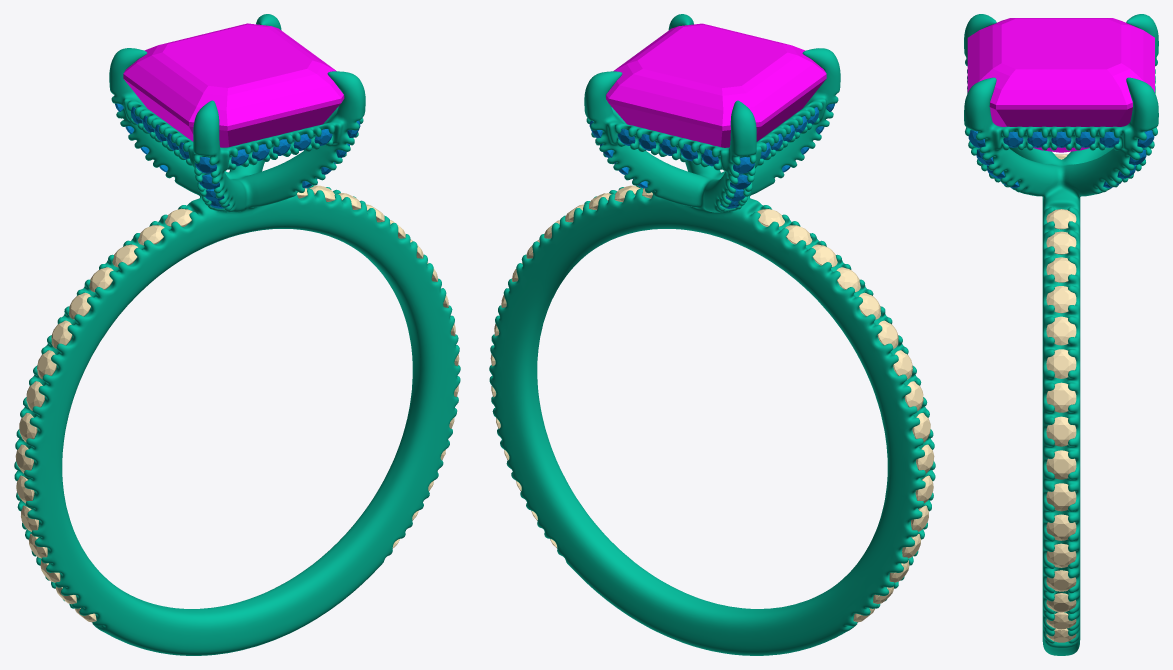
Rendered from BE1D129_AS_200ct_RENDER.glb.
The picture shows the model from 3 angles, left to right: view 1: azimuth 30°, elevation 25°; view 2: azimuth 150°, elevation 25°; view 3: azimuth 270°, elevation 25°; orthographic projection.
Parts seen in each view (by area): view 1: Metal 01, CS_Diamond_Asscher; view 2: Metal 01, CS_Diamond_Asscher; view 3: Metal 01, CS_Diamond_Asscher, Diamond_Round_Gem_SH.008, Diamond_Round_Gem_SH.009, Diamond_Round_Gem_SH.010, Diamond_Round_Gem_SH.007, Diamond_Round_Gem_SH.011, Diamond_Round_Gem_SH.006, Diamond_Round_Gem_SH.012, Diamond_Round_Gem_SH.005, Diamond_Round_Gem_SH.013, Diamond_Round_Gem_SH.004 (+5 smaller).
Part boxes in pixels (x1=…): Metal 01: x1=14, y1=14, x2=460, y2=655; CS_Diamond_Asscher: x1=123, y1=23, x2=344, y2=147; Metal 01: x1=489, y1=14, x2=935, y2=655; CS_Diamond_Asscher: x1=606, y1=23, x2=826, y2=147; Metal 01: x1=964, y1=14, x2=1158, y2=655; CS_Diamond_Asscher: x1=967, y1=18, x2=1154, y2=152; Diamond_Round_Gem_SH.008: x1=1046, y1=416, x2=1076, y2=446; Diamond_Round_Gem_SH.009: x1=1046, y1=382, x2=1076, y2=412; Diamond_Round_Gem_SH.010: x1=1046, y1=349, x2=1076, y2=378; Diamond_Round_Gem_SH.007: x1=1046, y1=450, x2=1076, y2=479; Diamond_Round_Gem_SH.011: x1=1046, y1=316, x2=1076, y2=345; Diamond_Round_Gem_SH.006: x1=1046, y1=483, x2=1076, y2=511; Diamond_Round_Gem_SH.012: x1=1046, y1=286, x2=1076, y2=313; Diamond_Round_Gem_SH.005: x1=1046, y1=514, x2=1076, y2=540; Diamond_Round_Gem_SH.013: x1=1046, y1=257, x2=1076, y2=282; Diamond_Round_Gem_SH.004: x1=1046, y1=543, x2=1076, y2=567.
Bounding box in the file's own units: 20.08 × 26 × 7.81.
